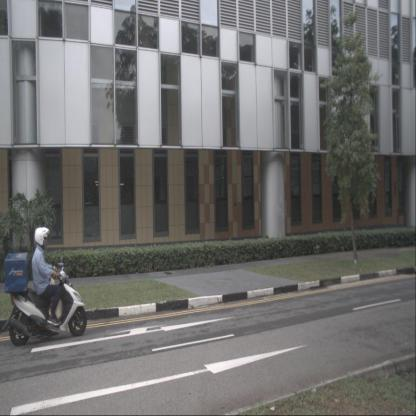vehicle-motorcycle: (5, 227, 87, 346)
